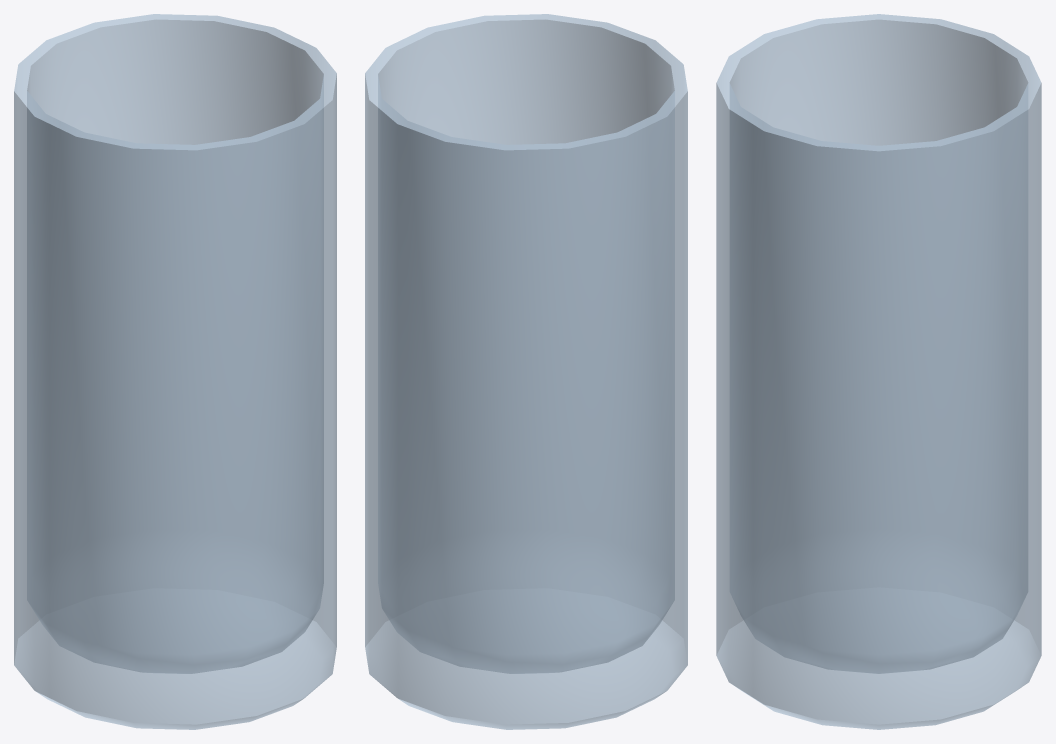
Rendered from Glass_B.FBX.
3 renders of one model, left to right at view 1: azimuth 30°, elevation 25°; view 2: azimuth 150°, elevation 25°; view 3: azimuth 270°, elevation 25°, orthographic.
Parts seen in each view (by area): view 1: Glass_B; view 2: Glass_B; view 3: Glass_B.
Boxes of the visible parts, x1,y1,x2,y2 form: Glass_B: (14, 14, 336, 729); Glass_B: (365, 14, 687, 729); Glass_B: (716, 14, 1041, 729).
Size of the model in its own units: 29.92 by 59.39 by 29.92.
